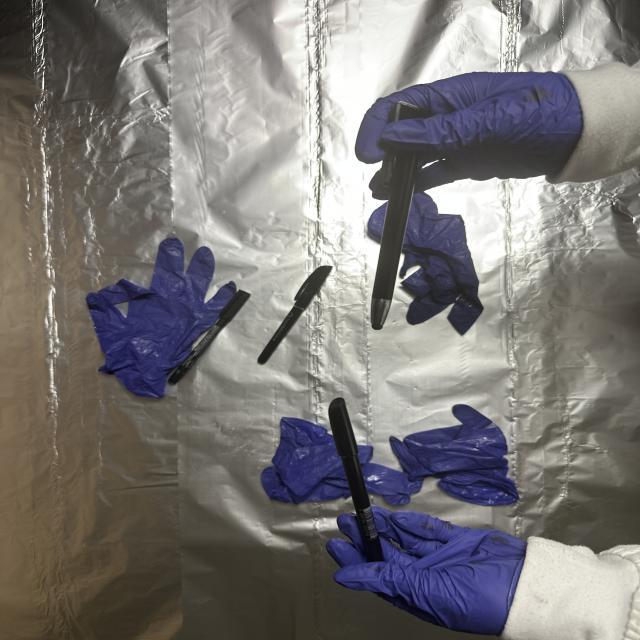gloves_contaminated: (356, 72, 586, 190), (330, 505, 524, 634)
